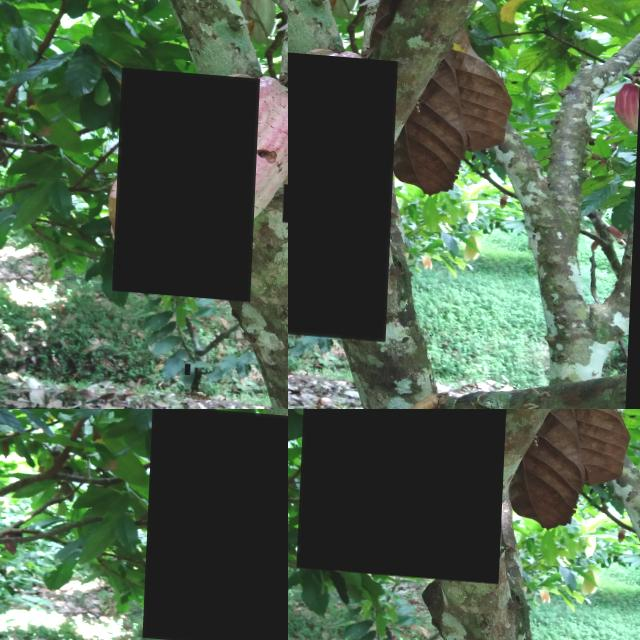Monilia: (146, 409, 288, 640), (288, 45, 399, 334)
Sana: (300, 409, 509, 577), (117, 64, 262, 296), (190, 359, 195, 370)
